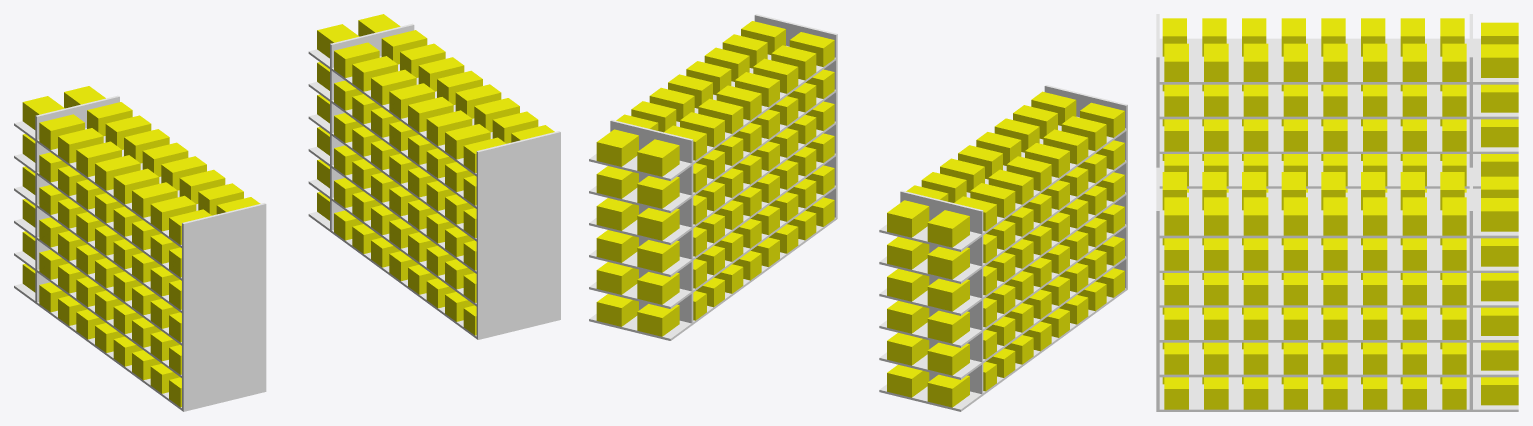
The model's file is modelo_inicial.dae.
3 views of the same model, side by side, from view 1: azimuth 30°, elevation 25°; view 2: azimuth 150°, elevation 25°; view 3: azimuth 270°, elevation 25° (orthographic). The views are drawn at different scales.
Parts seen in each view (by area): view 1: group_246, group_107, group_257, group_98, group_108, group_244, group_0, group_5, group_137, group_133, group_1, group_135 (+110 smaller); view 2: group_244, group_108, group_246, group_112, group_226, group_227, group_113, group_107, group_121, group_122, group_114, group_117 (+142 smaller); view 3: group_97, group_253, group_258, group_101, group_259, group_254, group_99, group_252, group_255, group_102, group_104, group_250 (+130 smaller).
Boxes of the visible parts, x1=… form: group_246: x1=476, y1=141, x2=519, y2=339; group_107: x1=182, y1=213, x2=224, y2=411; group_257: x1=518, y1=131, x2=560, y2=329; group_98: x1=224, y1=203, x2=266, y2=401; group_108: x1=35, y1=105, x2=78, y2=304; group_244: x1=330, y1=34, x2=372, y2=232; group_0: x1=113, y1=168, x2=159, y2=204; group_5: x1=150, y1=195, x2=196, y2=231; group_137: x1=426, y1=110, x2=472, y2=145; group_133: x1=334, y1=42, x2=379, y2=78; group_1: x1=132, y1=182, x2=177, y2=217; group_135: x1=445, y1=124, x2=490, y2=159; group_244: x1=651, y1=129, x2=693, y2=325; group_108: x1=941, y1=200, x2=983, y2=396; group_246: x1=795, y1=24, x2=837, y2=219; group_112: x1=927, y1=210, x2=969, y2=247; group_226: x1=637, y1=139, x2=679, y2=176; group_227: x1=596, y1=129, x2=638, y2=166; group_113: x1=887, y1=200, x2=929, y2=237; group_107: x1=1085, y1=95, x2=1127, y2=290; group_121: x1=927, y1=342, x2=969, y2=375; group_122: x1=927, y1=374, x2=969, y2=407; group_114: x1=927, y1=246, x2=969, y2=279; group_117: x1=927, y1=278, x2=969, y2=311; group_97: x1=1159, y1=95, x2=1469, y2=119; group_253: x1=1159, y1=353, x2=1469, y2=377; group_258: x1=1159, y1=214, x2=1469, y2=238; group_101: x1=1159, y1=60, x2=1469, y2=84; group_259: x1=1159, y1=318, x2=1469, y2=342; group_254: x1=1159, y1=283, x2=1469, y2=307; group_99: x1=1159, y1=130, x2=1469, y2=153; group_252: x1=1159, y1=388, x2=1469, y2=411; group_255: x1=1159, y1=249, x2=1469, y2=272; group_102: x1=1159, y1=164, x2=1469, y2=188; group_104: x1=1159, y1=38, x2=1469, y2=60; group_250: x1=1159, y1=192, x2=1469, y2=214.
Bounding box in the file's own units: 77.8 × 60.52 × 37.01.
